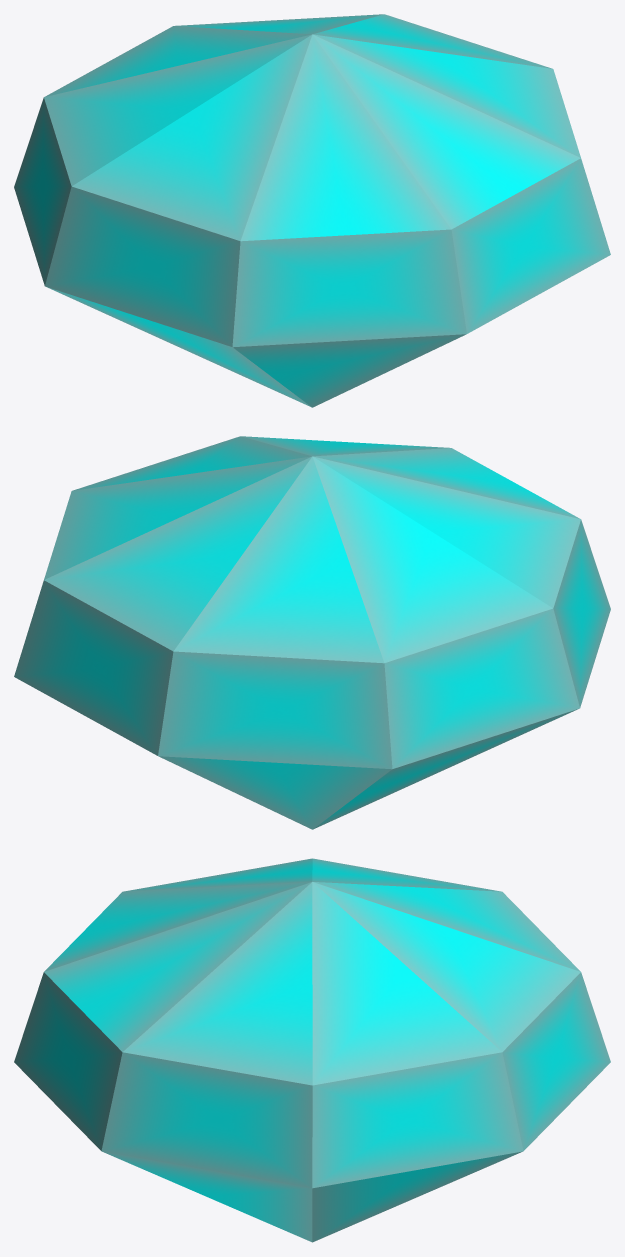
The model's file is diamond.glb.
3 views of the same model, one above another, from view 1: azimuth 30°, elevation 25°; view 2: azimuth 150°, elevation 25°; view 3: azimuth 270°, elevation 25° (orthographic). The views are drawn at different scales.
Visible parts, largest first — view 1: Diamond; view 2: Diamond; view 3: Diamond.
Boxes of the visible parts, box(x1,y1,x2,y2) form: Diamond: box(14, 14, 610, 407); Diamond: box(14, 436, 610, 829); Diamond: box(14, 858, 610, 1242).
Size of the model in its own units: 0.6 by 0.4 by 0.6.
Materials: 1 (1 with a texture image).
